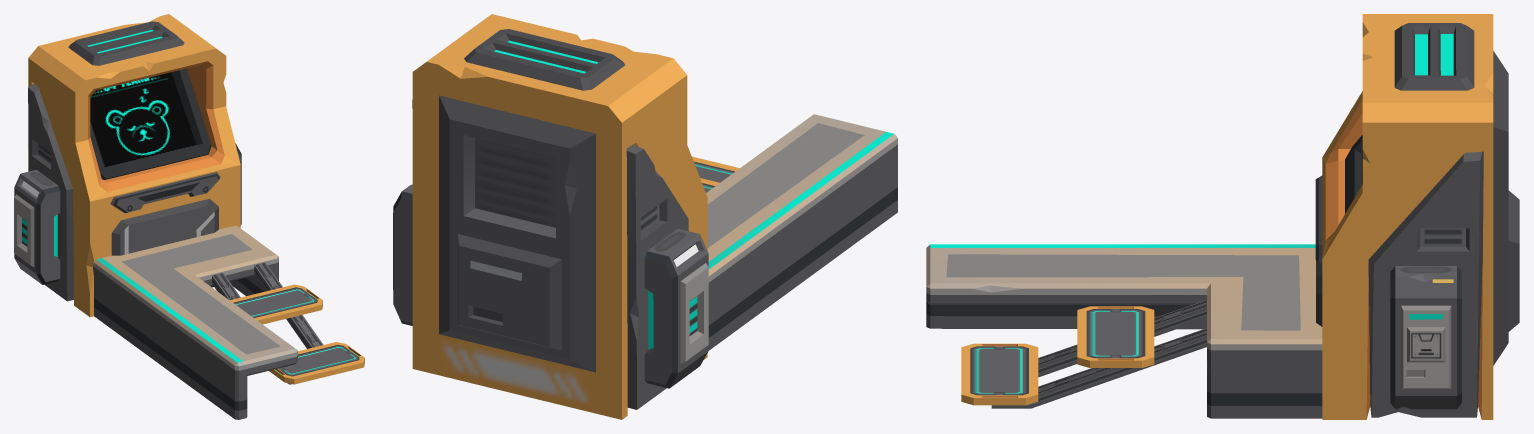
The model's file is SM_Prop_Hibernation_Pod_Console_01.fbx.
The picture shows the model from 3 angles, left to right: view 1: azimuth 30°, elevation 25°; view 2: azimuth 150°, elevation 25°; view 3: azimuth 270°, elevation 25°; orthographic projection. The views are drawn at different scales.
Parts seen in each view (by area): view 1: SM_Prop_Hibernation_Pod_Console_01; view 2: SM_Prop_Hibernation_Pod_Console_01; view 3: SM_Prop_Hibernation_Pod_Console_01.
Boxes of the visible parts, x1,y1,x2,y2 form: SM_Prop_Hibernation_Pod_Console_01: (14, 14, 364, 419); SM_Prop_Hibernation_Pod_Console_01: (393, 14, 897, 419); SM_Prop_Hibernation_Pod_Console_01: (926, 14, 1519, 419).
Bounding box in the file's own units: 174 × 179 × 302.
